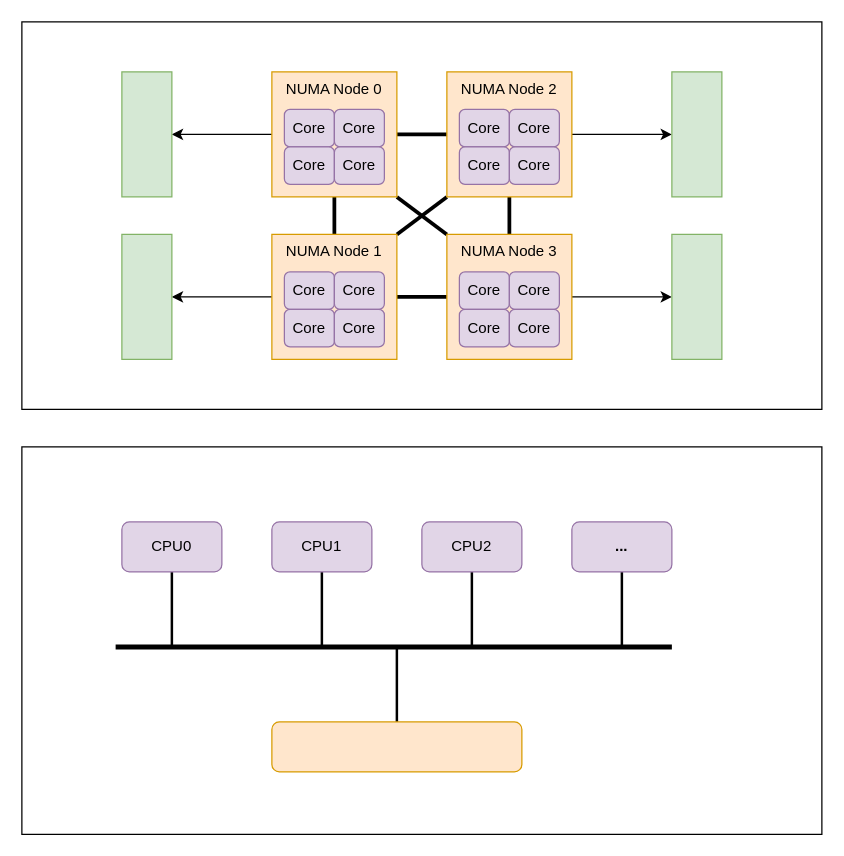
The diagram is 844 pixels wide and 856 high, and some of its shapes have lost their labels. The centre of each missing label's shape, as x and y in pixels:
"Local Memory Node 0" goes at pixel 146 134.
"Local Memory Node 1" goes at pixel 146 296.
"Local Memory Node 2" goes at pixel 696 134.
"Local Memory Node 3" goes at pixel 696 296.
"Memory" goes at pixel 396 746.
